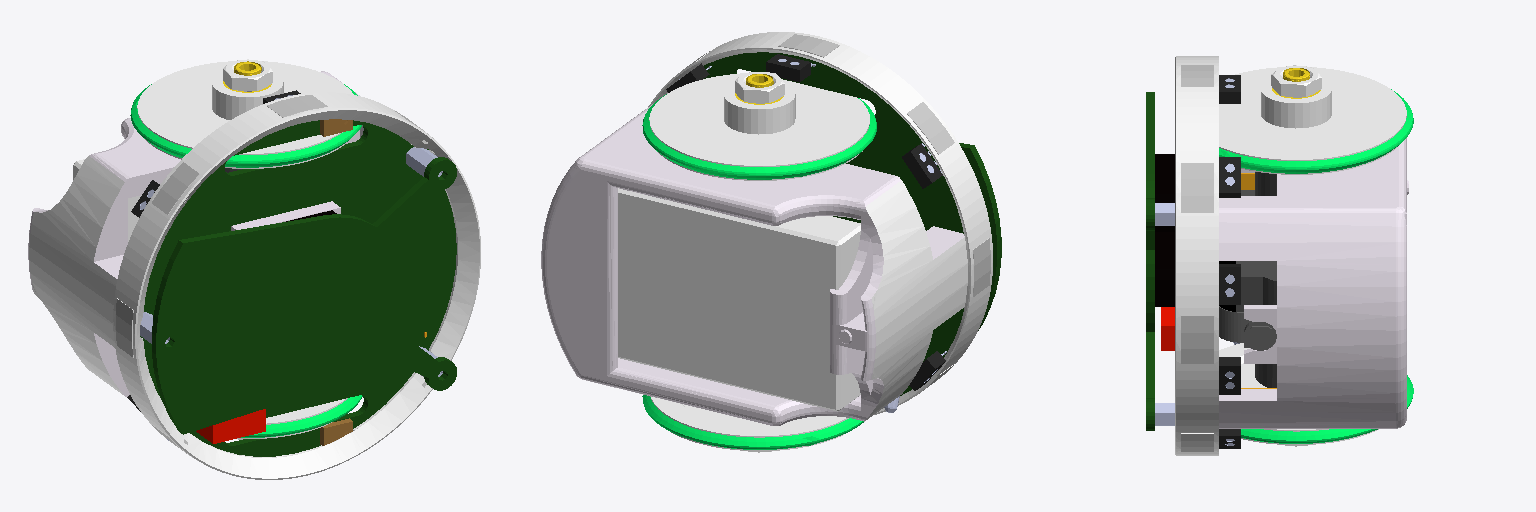
The model's file is epuck.obj.
The picture shows the model from 3 angles: view 1: azimuth 30°, elevation 25°; view 2: azimuth 150°, elevation 25°; view 3: azimuth 270°, elevation 25°; orthographic projection.
Visible parts, largest first — view 1: mesh 10 epuck_base-1-solid30 face, mesh 1 Base-1, mesh 24 epuck_base-1-solid13 face, mesh 23 epuck_base-1-solid27 face, mesh 26 epuck_base-1-solid12 face, mesh 12 epuck_base-1-solid7 face, mesh 3 CirPattern1 face, mesh 11 epuck_base-1-solid10 face, mesh 20 epuck_base-1-solid3 face, mesh 13 epuck_base-1-solid14 face, mesh 2 CirPattern1, mesh 4 epuck_base-1-solid15 face; view 2: mesh 1 Base-1, mesh 23 epuck_base-1-solid27 face, mesh 24 epuck_base-1-solid13 face, mesh 10 epuck_base-1-solid30 face, mesh 26 epuck_base-1-solid12 face, mesh 15 epuck_base-1-solid21 face, mesh 3 CirPattern1 face, mesh 2 CirPattern1, mesh 4 epuck_base-1-solid15 face; view 3: mesh 23 epuck_base-1-solid27 face, mesh 1 Base-1, mesh 26 epuck_base-1-solid12 face, mesh 15 epuck_base-1-solid21 face, mesh 10 epuck_base-1-solid30 face, mesh 17 epuck_base-1-solid23 face, mesh 21 epuck_base-1-solid8 face, mesh 5 epuck_base-1-solid28 face, mesh 16 epuck_base-1-solid35 face, mesh 6 epuck_base-1-solid16 face, mesh 11 epuck_base-1-solid10 face, mesh 4 epuck_base-1-solid15 face (+2 smaller).
Boxes of the visible parts, <box> form: mesh 10 epuck_base-1-solid30 face: <box>140,120,456,456</box>; mesh 1 Base-1: <box>73,59,480,479</box>; mesh 24 epuck_base-1-solid13 face: <box>29,156,124,394</box>; mesh 23 epuck_base-1-solid27 face: <box>28,71,363,396</box>; mesh 26 epuck_base-1-solid12 face: <box>130,84,362,437</box>; mesh 12 epuck_base-1-solid7 face: <box>196,409,265,443</box>; mesh 3 CirPattern1 face: <box>152,162,198,214</box>; mesh 11 epuck_base-1-solid10 face: <box>140,95,442,440</box>; mesh 20 epuck_base-1-solid3 face: <box>320,119,352,445</box>; mesh 13 epuck_base-1-solid14 face: <box>231,201,340,230</box>; mesh 2 CirPattern1: <box>116,299,132,356</box>; mesh 4 epuck_base-1-solid15 face: <box>267,95,327,116</box>; mesh 1 Base-1: <box>618,32,992,452</box>; mesh 23 epuck_base-1-solid27 face: <box>541,93,964,425</box>; mesh 24 epuck_base-1-solid13 face: <box>866,180,967,419</box>; mesh 10 epuck_base-1-solid30 face: <box>704,52,1001,395</box>; mesh 26 epuck_base-1-solid12 face: <box>642,94,876,449</box>; mesh 15 epuck_base-1-solid21 face: <box>666,54,945,390</box>; mesh 3 CirPattern1 face: <box>907,102,954,153</box>; mesh 2 CirPattern1: <box>973,238,990,296</box>; mesh 4 epuck_base-1-solid15 face: <box>779,34,839,56</box>; mesh 23 epuck_base-1-solid27 face: <box>1219,138,1408,428</box>; mesh 1 Base-1: <box>1175,56,1406,455</box>; mesh 26 epuck_base-1-solid12 face: <box>1219,89,1413,443</box>; mesh 15 epuck_base-1-solid21 face: <box>1219,75,1240,448</box>; mesh 10 epuck_base-1-solid30 face: <box>1146,92,1154,430</box>; mesh 17 epuck_base-1-solid23 face: <box>1236,172,1276,387</box>; mesh 21 epuck_base-1-solid8 face: <box>1155,154,1174,306</box>; mesh 5 epuck_base-1-solid28 face: <box>1181,163,1213,212</box>; mesh 16 epuck_base-1-solid35 face: <box>1219,306,1276,350</box>; mesh 6 epuck_base-1-solid16 face: <box>1181,316,1213,363</box>; mesh 11 epuck_base-1-solid10 face: <box>1155,78,1239,445</box>; mesh 4 epuck_base-1-solid15 face: <box>1181,65,1213,86</box>.
Bounding box in the file's own units: 0.0725 × 0.073 × 0.0485.